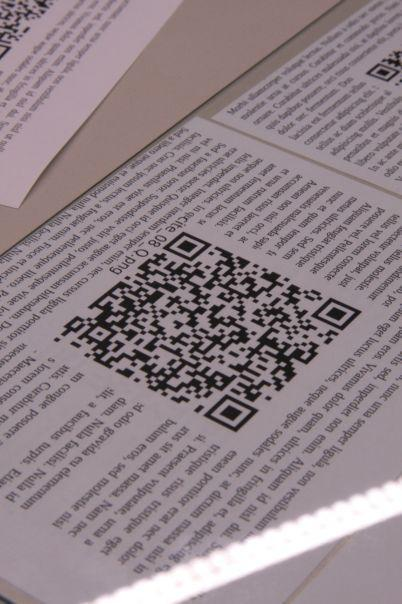qr_code: (52, 230, 362, 432)
